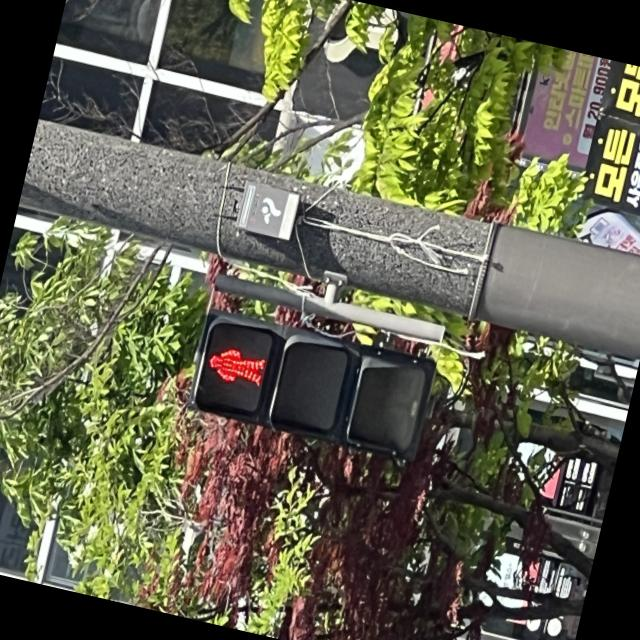red_light: (190, 302, 460, 467)
